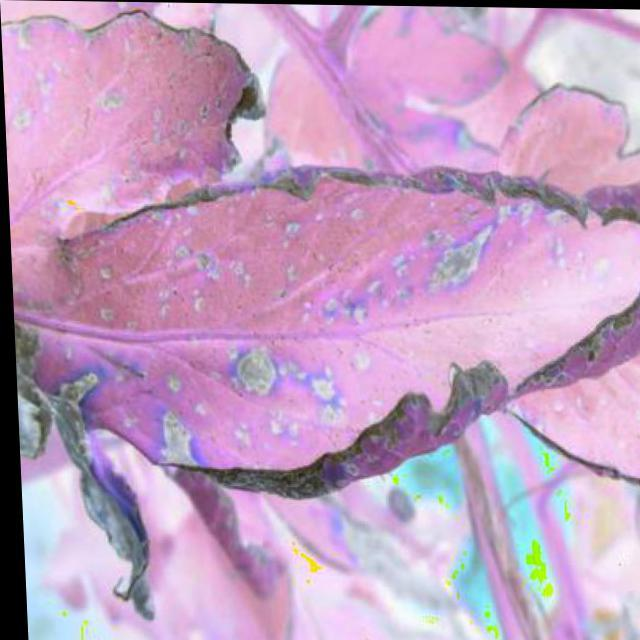Tomato Septoria spot leaf: (1, 6, 639, 527)
